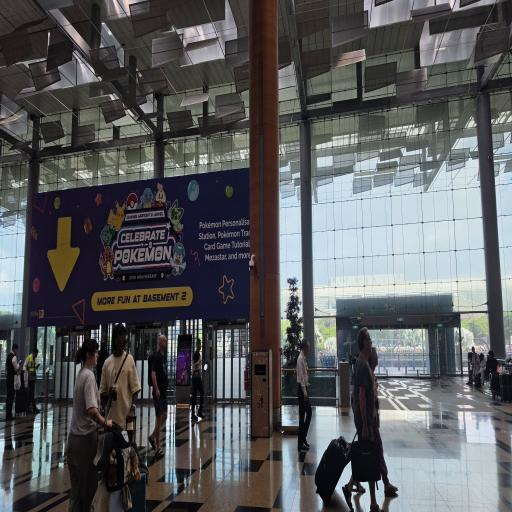person_right: (368, 345, 396, 493), (145, 326, 169, 452), (294, 337, 316, 453), (4, 339, 20, 416), (192, 335, 204, 415)
person_with_luggage_right: (318, 331, 372, 502), (18, 342, 39, 421)
